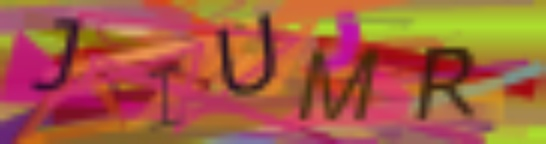I: (144, 58, 184, 135)
J: (27, 15, 83, 94)
M: (298, 41, 383, 125)
R: (414, 45, 479, 124)
U: (213, 8, 278, 105)
